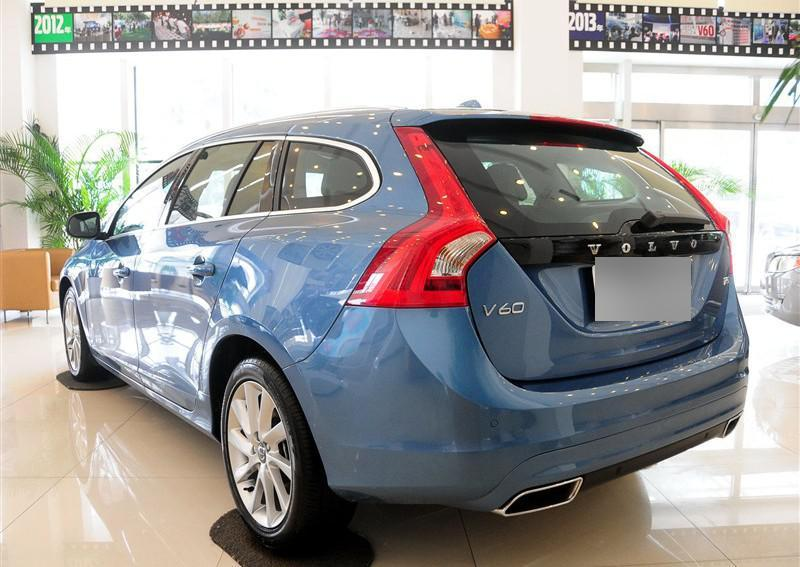Wagon: (53, 97, 759, 565)
